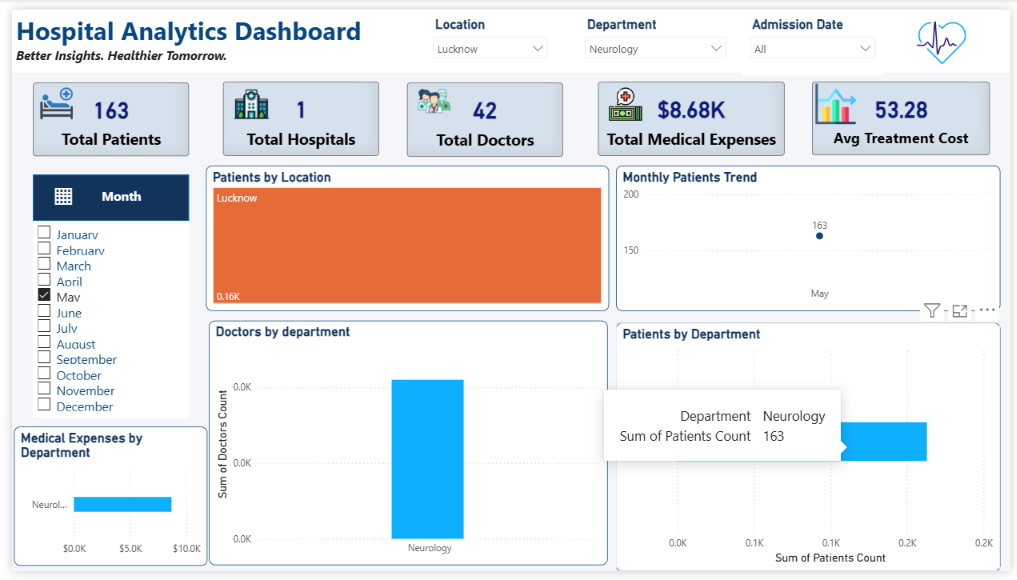

What the dashboard file says about the page in this screenshot:
{"tool":"powerbi","page":{"name":"Page 1","canvas":[1280,720],"ordinal":0},"visuals":[{"type":"textbox","box":[0,0,1279.7,81],"z":0},{"type":"card","fields":{"Values":["Sum(Hospital_Data.Patients Count)"]},"box":[26.5,94.1,200.3,94.1],"z":1000},{"type":"card","fields":{"Values":["Hospital_Data.Avg Treatment Cost"]},"box":[1025.5,92.9,228,94.1],"z":2000},{"type":"card","fields":{"Values":["Sum(Hospital_Data.Doctors Count)"]},"box":[506.3,93.7,200,94.9],"z":3000},{"type":"card","fields":{"Values":["Count(Hospital_Data.Hospital Name)"]},"box":[270.9,92.4,200,94.9],"z":4000},{"type":"areaChart","title":"Monthly Patients Trend","fields":{"Category":["Hospital_Data.Admission Date.Variation.Date Hierarchy.Month"],"Y":["Sum(Hospital_Data.Patients Count)"]},"box":[774.7,200,492.4,186.1],"z":5000},{"type":"clusteredBarChart","title":"Medical Expenses by Department","fields":{"Category":["Hospital_Data.Department"],"Y":["Sum(Hospital_Data.Medical Expenses)"]},"box":[2.5,534.2,248.1,178.5],"z":6000},{"type":"slicer","fields":{"Values":["Hospital_Data.Department"]},"box":[724.1,3.8,201.3,59.5],"z":7000},{"type":"slicer","fields":{"Values":["Hospital_Data.Admission Date"]},"box":[935.4,3.8,181,81],"z":8000},{"type":"slicer","fields":{"Values":["Hospital_Data.Location"]},"box":[529.1,3.8,167.1,72.2],"z":9000},{"type":"treemap","title":"Patients by Location","fields":{"Group":["Hospital_Data.Location"],"Values":["Sum(Hospital_Data.Patients Count)"]},"box":[248.1,200,516.5,186.1],"z":10000},{"type":"clusteredColumnChart","title":"Doctors by department","fields":{"Category":["Hospital_Data.Department"],"Y":["Sum(Hospital_Data.Doctors Count)"]},"box":[253.2,398.7,511.4,313.9],"z":11000},{"type":"clusteredBarChart","title":"Patients by Department","fields":{"Y":["Sum(Hospital_Data.Patients Count)"],"Category":["Hospital_Data.Department"]},"box":[774.7,401.3,492.4,319],"z":12000},{"type":"card","fields":{"Values":["Sum(Hospital_Data.Medical Expenses)"]},"box":[751.9,92.4,239.2,94.9],"z":14000},{"type":"listSlicer","fields":{"Values":["Hospital_Data.Admission Date.Variation.Date Hierarchy.Month"]},"box":[26.6,270.9,200,253.2],"z":15000},{"type":"shape","box":[26.6,211.4,200,59.5],"z":16000},{"type":"textbox","box":[83.5,222.8,113.9,38],"z":17000},{"type":"textbox","box":[12.7,211.4,106.3,65.8],"z":18000},{"type":"image","box":[1103.9,0,176.1,84.5],"z":18001},{"type":"image","box":[30.2,98.9,53.1,43.4],"z":18003},{"type":"image","box":[271.4,100.1,70,42.2],"z":18004},{"type":"image","box":[506.7,76,70,83.2],"z":18005},{"type":"image","box":[733.5,100.1,106.2,42.2],"z":18006},{"type":"image","box":[1007.4,95.3,96.5,51.9],"z":18007}]}

Visuals, with their boxes in screenshot pixels (x1, y1, x2, y2), scaled from the page's 1280x720 canvas onto the 1017x580 screenshot:
textbox: l=0, t=0, r=1016, b=65
card - Sum(Hospital_Data.Patients Count): l=21, t=76, r=180, b=152
card - Hospital_Data.Avg Treatment Cost: l=815, t=75, r=996, b=151
card - Sum(Hospital_Data.Doctors Count): l=402, t=75, r=561, b=152
card - Count(Hospital_Data.Hospital Name): l=215, t=74, r=374, b=151
"Monthly Patients Trend" areaChart: l=616, t=161, r=1007, b=311
"Medical Expenses by Department" clusteredBarChart: l=2, t=430, r=199, b=574
slicer - Hospital_Data.Department: l=575, t=3, r=735, b=51
slicer - Hospital_Data.Admission Date: l=743, t=3, r=887, b=68
slicer - Hospital_Data.Location: l=420, t=3, r=553, b=61
"Patients by Location" treemap: l=197, t=161, r=607, b=311
"Doctors by department" clusteredColumnChart: l=201, t=321, r=607, b=574
"Patients by Department" clusteredBarChart: l=616, t=323, r=1007, b=579
card - Sum(Hospital_Data.Medical Expenses): l=597, t=74, r=787, b=151
listSlicer - Hospital_Data.Admission Date.Variation.Date Hierarchy.Month: l=21, t=218, r=180, b=422
shape: l=21, t=170, r=180, b=218
textbox: l=66, t=179, r=157, b=210
textbox: l=10, t=170, r=95, b=223
image: l=877, t=0, r=1016, b=68
image: l=24, t=80, r=66, b=115
image: l=216, t=81, r=271, b=115
image: l=403, t=61, r=458, b=128
image: l=583, t=81, r=667, b=115
image: l=800, t=77, r=877, b=119
